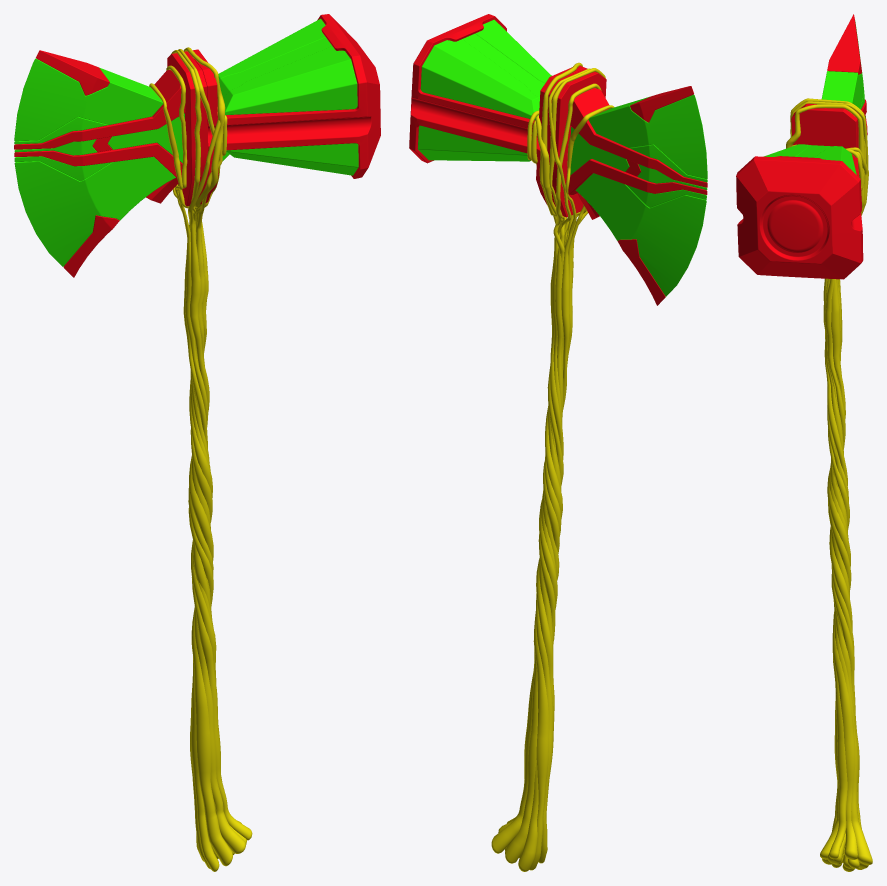
Rendered from Axe10 1.fbx.
3 renders of one model, left to right at view 1: azimuth 30°, elevation 25°; view 2: azimuth 150°, elevation 25°; view 3: azimuth 270°, elevation 25°, orthographic. The views are drawn at different scales.
Visible parts, largest first — view 1: Circle.005; view 2: Circle.005; view 3: Circle.005.
Boxes of the visible parts, left/top/right/bottom form: Circle.005: left=14, top=14, right=380, bottom=871; Circle.005: left=409, top=14, right=707, bottom=871; Circle.005: left=736, top=14, right=872, bottom=871.
Bounding box in the file's own units: 182 × 460 × 72.75.
